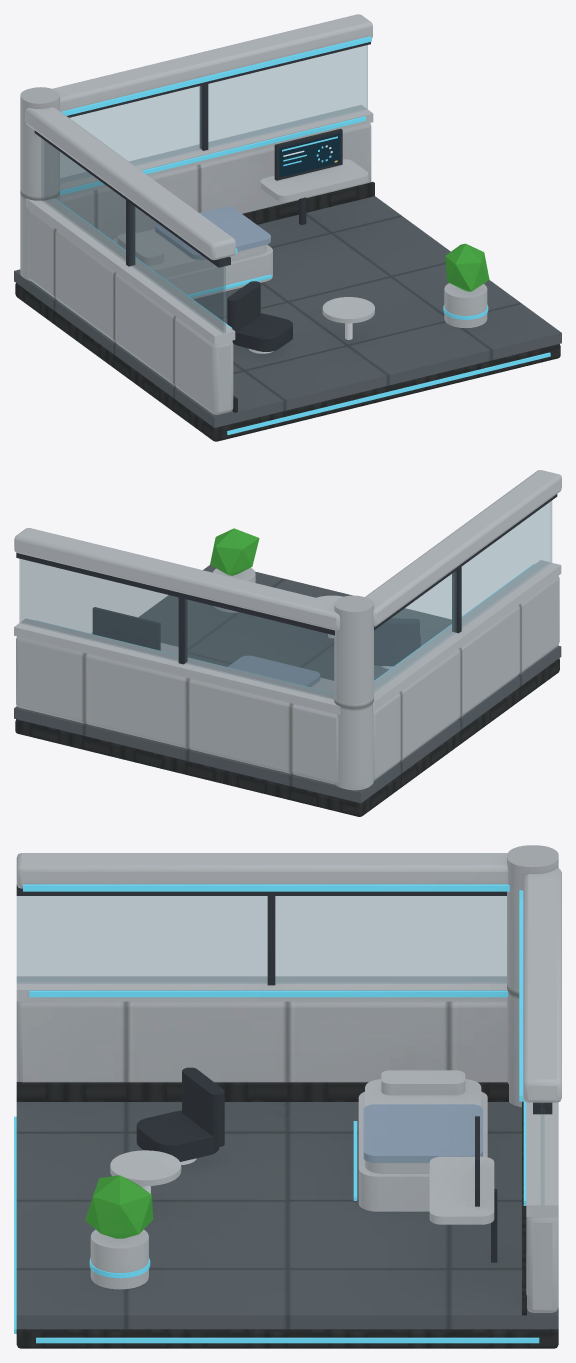
Rendered from enterprise_habitat_t3.glb.
The picture shows the model from 3 angles, top to bottom: view 1: azimuth 30°, elevation 25°; view 2: azimuth 150°, elevation 25°; view 3: azimuth 270°, elevation 25°; orthographic projection. The views are drawn at different scales.
Parts seen in each view (by area): view 1: te_enterprise_habitat_t3; view 2: te_enterprise_habitat_t3; view 3: te_enterprise_habitat_t3.
Part boxes in pixels (x1,y1,x2,y2): te_enterprise_habitat_t3: (14,14,561,441); te_enterprise_habitat_t3: (14,470,561,816); te_enterprise_habitat_t3: (14,845,561,1348).
Bounding box in the file's own units: 0.849 × 0.472 × 0.849.
Materials: 2 (1 with a texture image).
